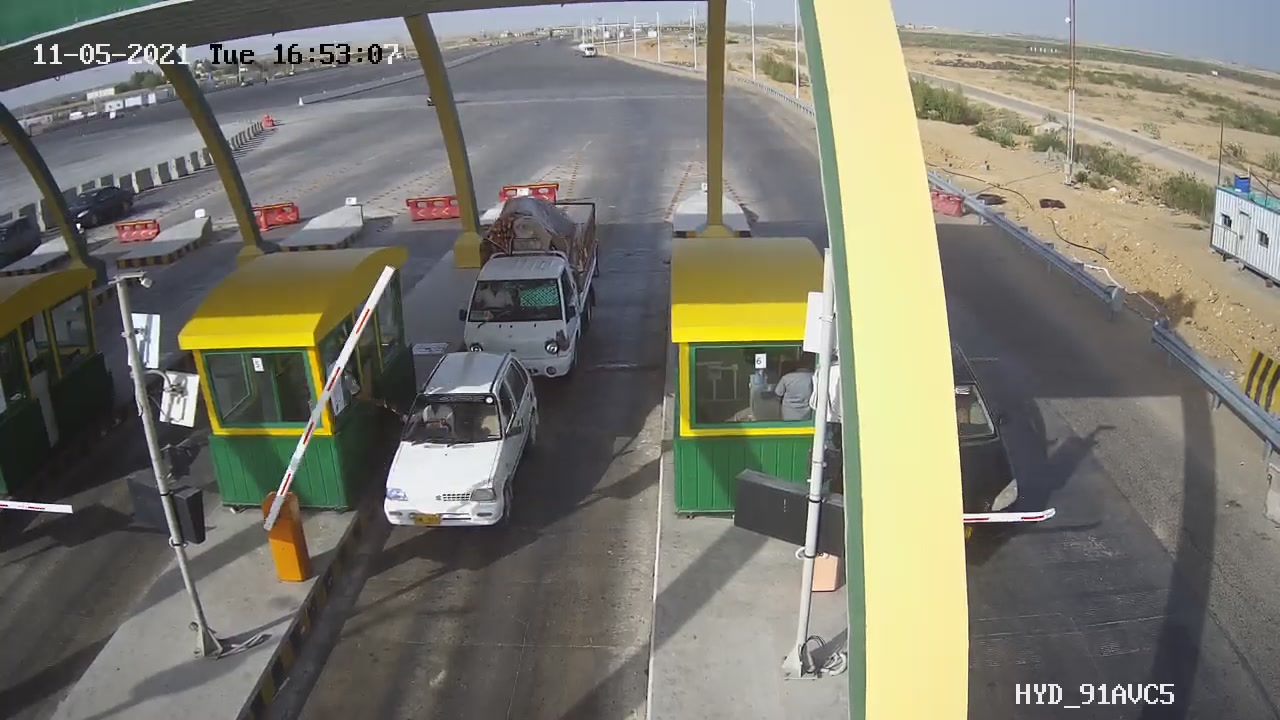F1: (367, 342, 557, 549)
F2: (459, 191, 611, 379)
